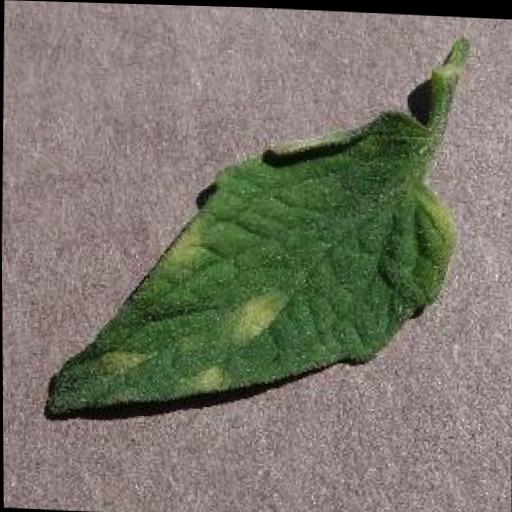Leaf Mold: (43, 91, 457, 432)
